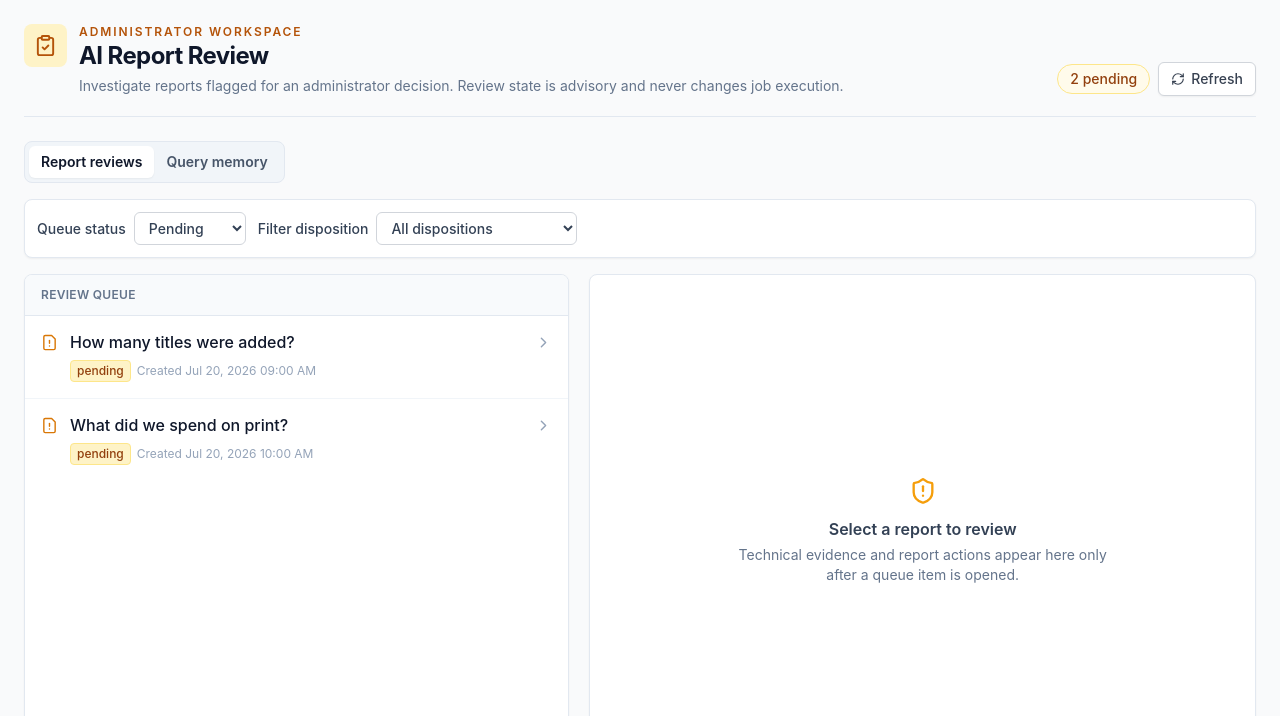
Scenario: ReportReviews › shows pending reviews oldest first and keeps technical detail closed initially
Expected: the text "SELECT secret_review_sql" is not shown
Click the button with aria-label "Open review: How many titles were added?". click: (182, 342)
box: 25,316 -> 568,398
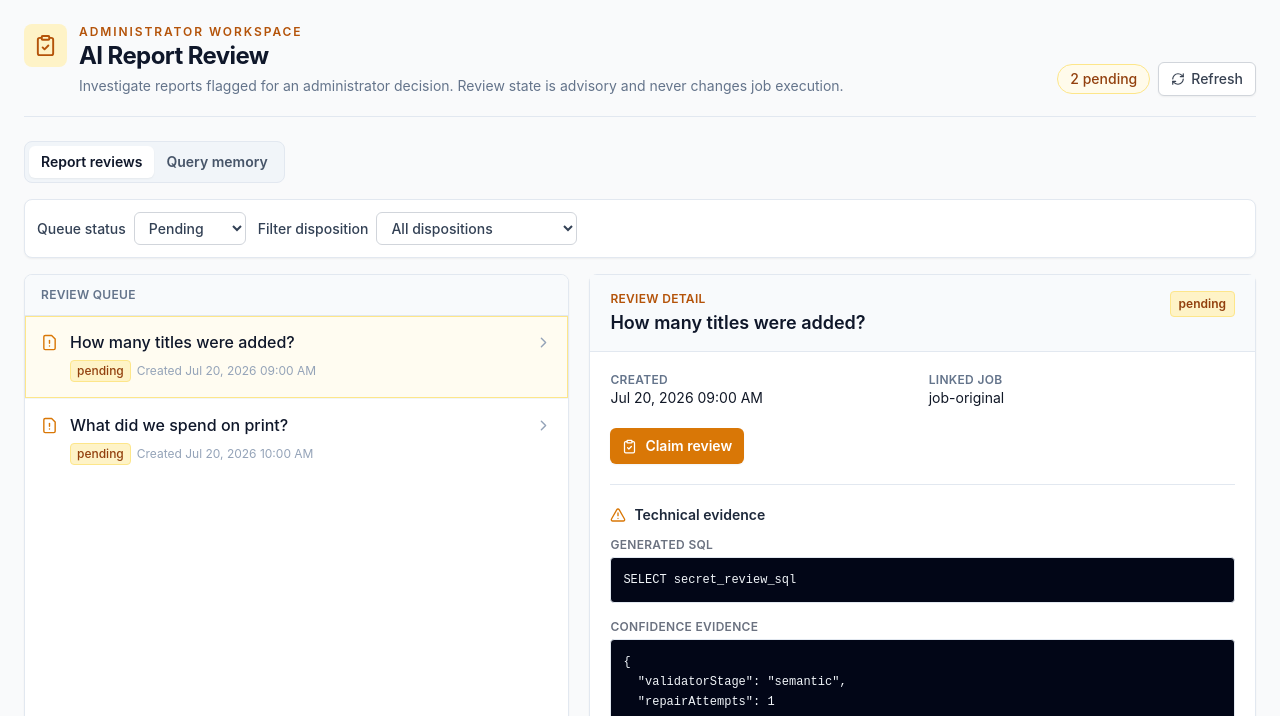
Expected: the heading "Technical evidence" is shown, 610,506 -> 765,523
Result: the text "SELECT secret_review_sql" is shown at 610,557 -> 1235,603
